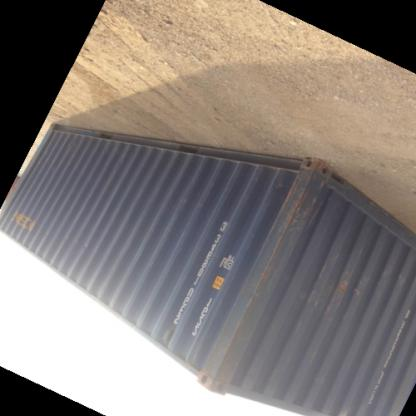Damage: (268, 180, 322, 240), (242, 268, 276, 324), (331, 278, 367, 308), (72, 233, 98, 264)
